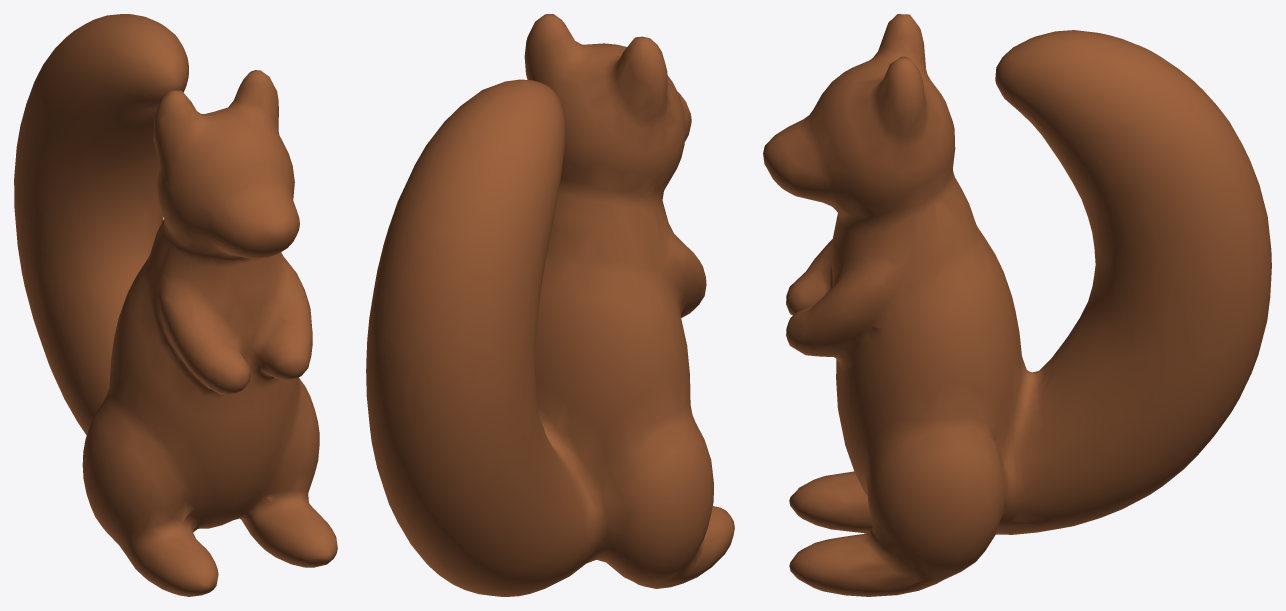
The model's file is NEW_RECOVERY_007_LOD0.glb.
3 renders of one model, left to right at view 1: azimuth 30°, elevation 25°; view 2: azimuth 150°, elevation 25°; view 3: azimuth 270°, elevation 25°, orthographic. The views are drawn at different scales.
Visible parts, largest first — view 1: NEW_RECOVERY_007_LOD0; view 2: NEW_RECOVERY_007_LOD0; view 3: NEW_RECOVERY_007_LOD0.
Part boxes in pixels (x1=…): NEW_RECOVERY_007_LOD0: x1=14, y1=14, x2=337, y2=596; NEW_RECOVERY_007_LOD0: x1=366, y1=14, x2=734, y2=596; NEW_RECOVERY_007_LOD0: x1=763, y1=14, x2=1271, y2=596.
Bounding box in the file's own units: 0.1165 × 0.2458 × 0.2158.
